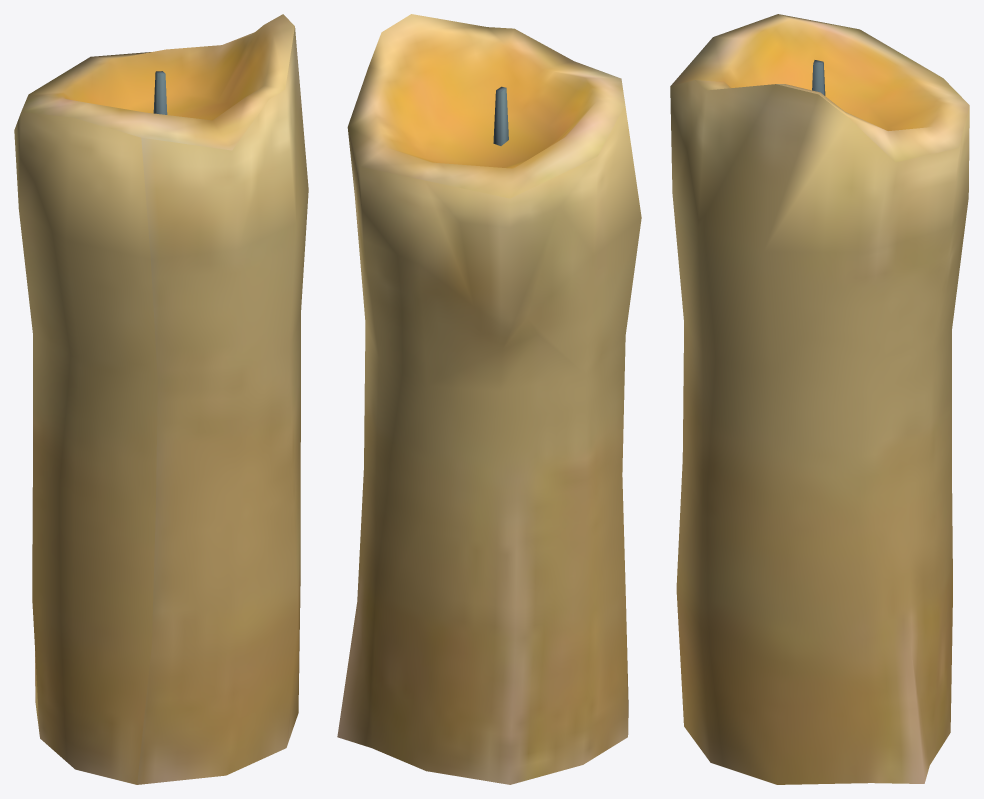
The model's file is Candle_2.glb.
The picture shows the model from 3 angles, left to right: view 1: azimuth 30°, elevation 25°; view 2: azimuth 150°, elevation 25°; view 3: azimuth 270°, elevation 25°; orthographic projection. The views are drawn at different scales.
Parts seen in each view (by area): view 1: Candle_2; view 2: Candle_2; view 3: Candle_2.
Boxes of the visible parts, left/top/right/bottom form: Candle_2: left=14, top=14, right=308, bottom=784; Candle_2: left=337, top=14, right=641, bottom=784; Candle_2: left=670, top=14, right=969, bottom=784.
Size of the model in its own units: 0.0944 by 0.2511 by 0.0975.
Materials: 1 (1 with a texture image).
